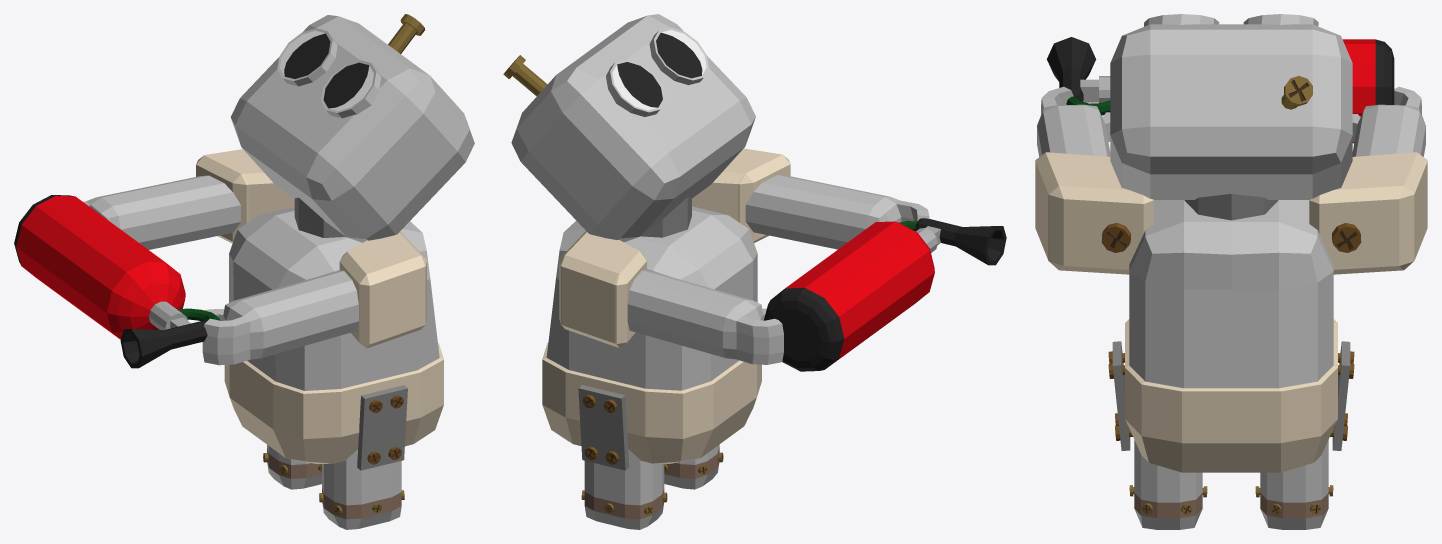
Rendered from Robot.fbx.
3 views of the same model, side by side, from view 1: azimuth 30°, elevation 25°; view 2: azimuth 150°, elevation 25°; view 3: azimuth 270°, elevation 25° (orthographic). The views are drawn at different scales.
Visible parts, largest first — view 1: Brazos, Torso; view 2: Brazos, Torso; view 3: Brazos, Torso.
Part boxes in pixels (x1=…): Brazos: x1=14, y1=14, x2=474, y2=368; Torso: x1=224, y1=207, x2=443, y2=529; Brazos: x1=503, y1=14, x2=1006, y2=371; Torso: x1=542, y1=206, x2=761, y2=529; Brazos: x1=1035, y1=14, x2=1427, y2=274; Torso: x1=1108, y1=200, x2=1354, y2=529.
Bounding box in the file's own units: 311 × 343 × 237.
